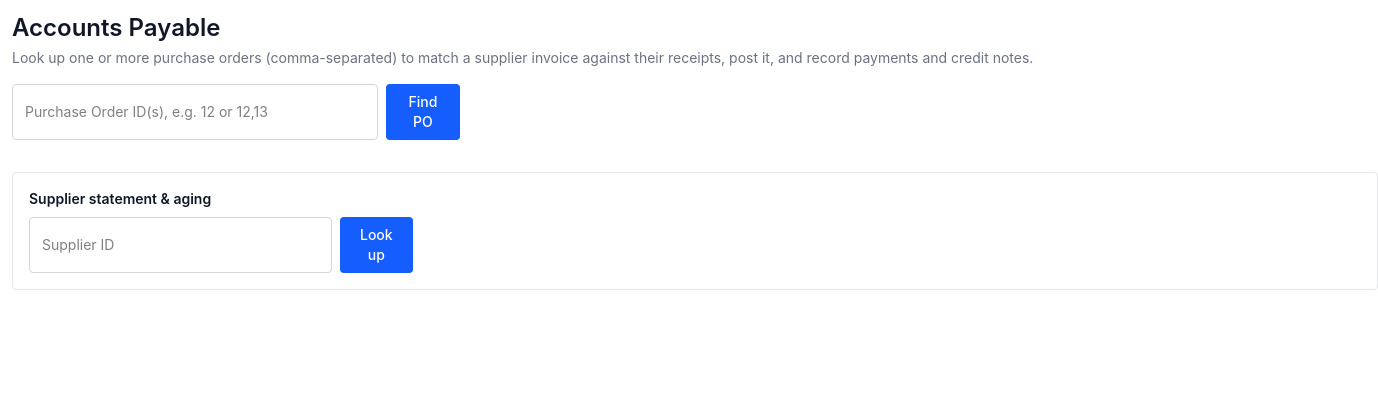
Scenario: AccountsPayablePage › finds a PO and shows invoiceable lines
Expected: the heading "Accounts Payable" is shown, [12,13,220,42]
Type "42" into the field with placeholder "Purchase Order ID(s), e.g. 12 or 12,13". click: coordinates (195, 112)
box: [12,84,378,140]
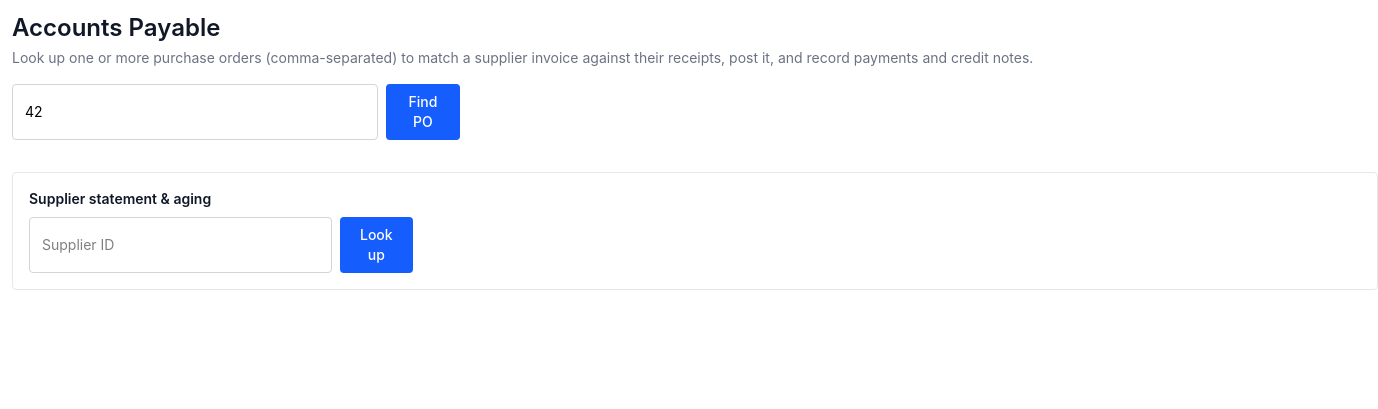
Click the button "Find PO". click: coordinates (423, 112)
box: [386,84,460,140]
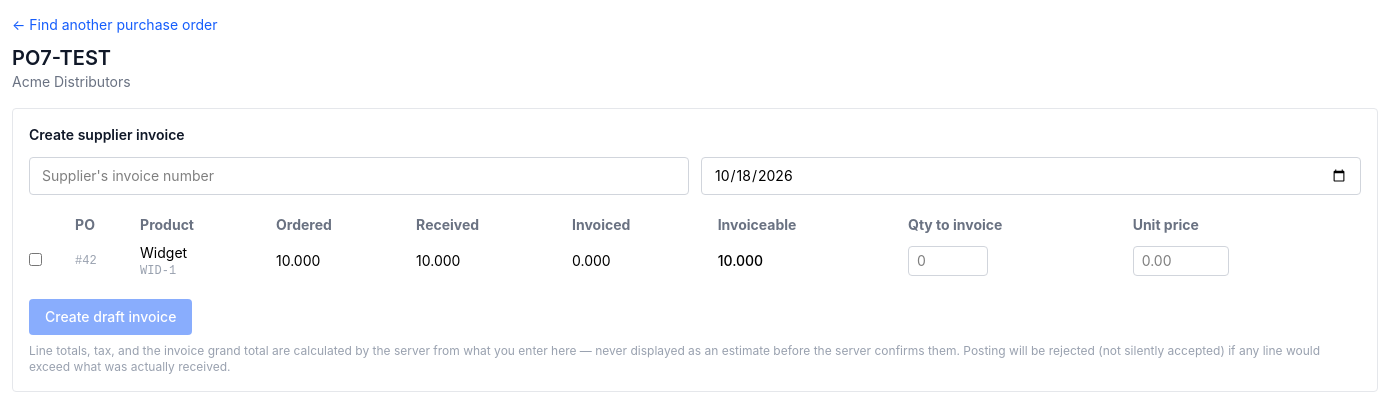
Expected: the heading "PO7-TEST" is shown, [12,46,111,70]
Expected: the text "Widget" is shown, [140,244,187,261]
Expected: the 1st text "10.000" is shown, [276,239,416,283]
